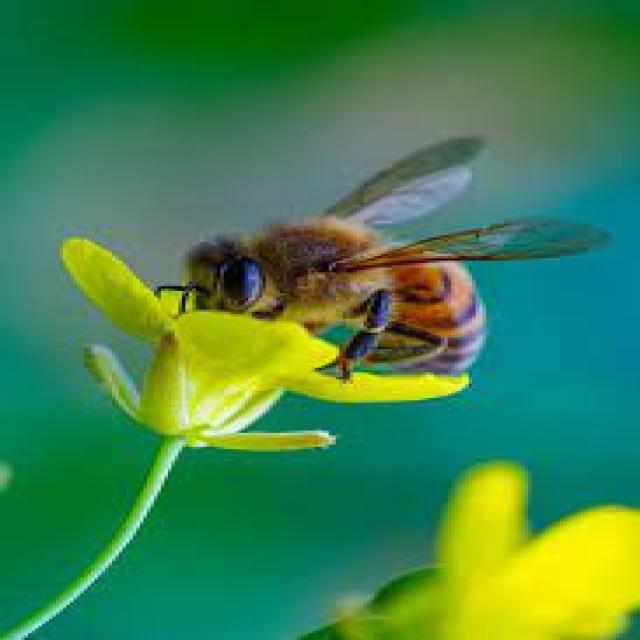Bees: (154, 132, 612, 385)
